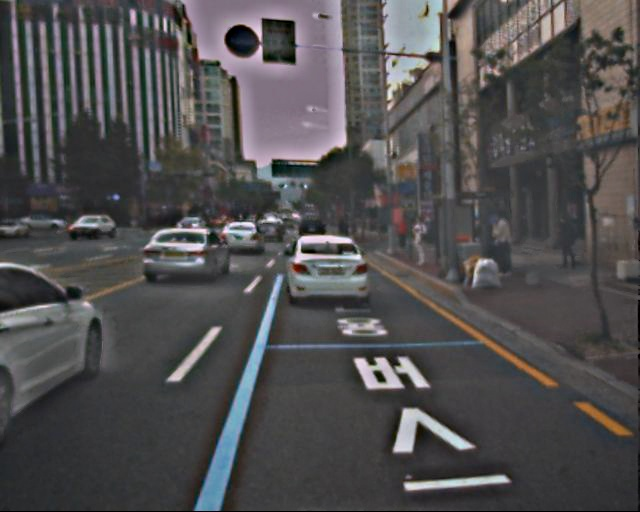person: (488, 210, 517, 281), (555, 214, 579, 272), (409, 215, 431, 268)
